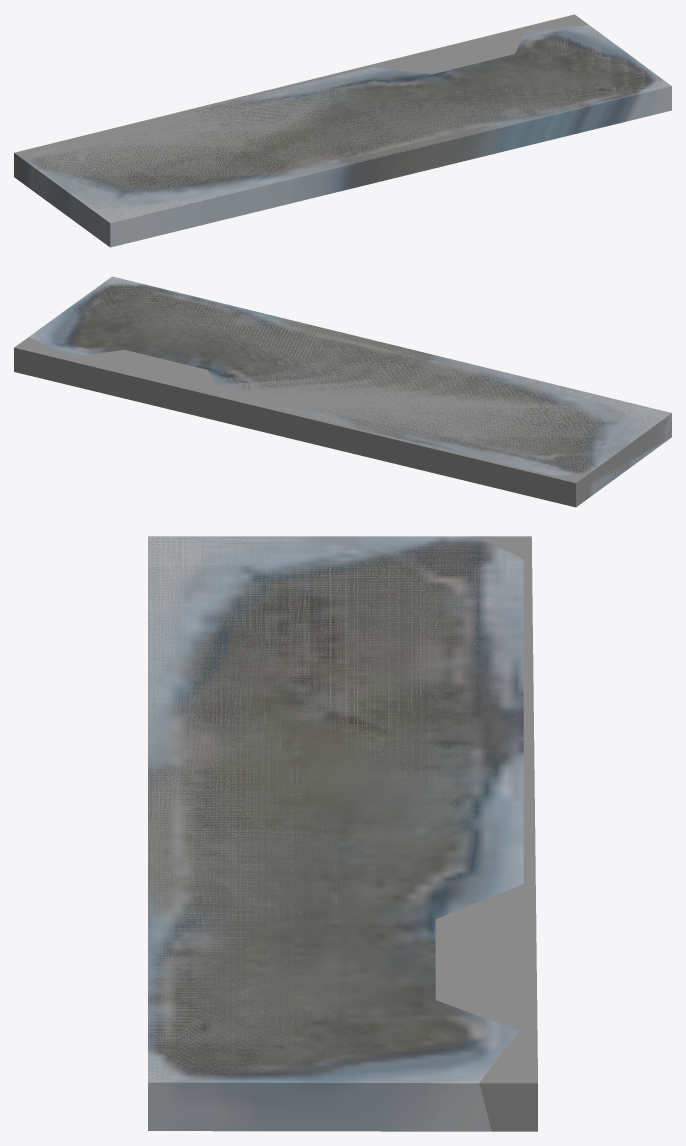
The model's file is Scene_Object_TianShan_DiMianzhuan_5.FBX.
3 renders of one model, top to bottom at view 1: azimuth 30°, elevation 25°; view 2: azimuth 150°, elevation 25°; view 3: azimuth 270°, elevation 25°, orthographic. The views are drawn at different scales.
Visible parts, largest first — view 1: Scene_Object_TianShan_DiMianzhuan_5, Scene_Object_TianShan_DiMianzhuan_5_Xzm; view 2: Scene_Object_TianShan_DiMianzhuan_5_Xzm, Scene_Object_TianShan_DiMianzhuan_5; view 3: Scene_Object_TianShan_DiMianzhuan_5, Scene_Object_TianShan_DiMianzhuan_5_Xzm.
Part boxes in pixels (x1,y1,x2,y2): Scene_Object_TianShan_DiMianzhuan_5: (27, 25, 671, 247); Scene_Object_TianShan_DiMianzhuan_5_Xzm: (14, 14, 671, 245); Scene_Object_TianShan_DiMianzhuan_5_Xzm: (14, 277, 671, 507); Scene_Object_TianShan_DiMianzhuan_5: (29, 276, 671, 496); Scene_Object_TianShan_DiMianzhuan_5: (148, 536, 523, 1131); Scene_Object_TianShan_DiMianzhuan_5_Xzm: (148, 536, 537, 1131).
Size of the model in its own units: 104 by 4.3 by 31.37.
